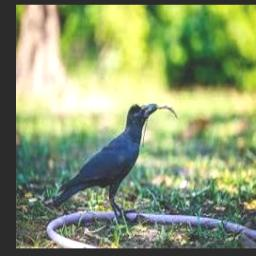Crow: (47, 104, 157, 216)
